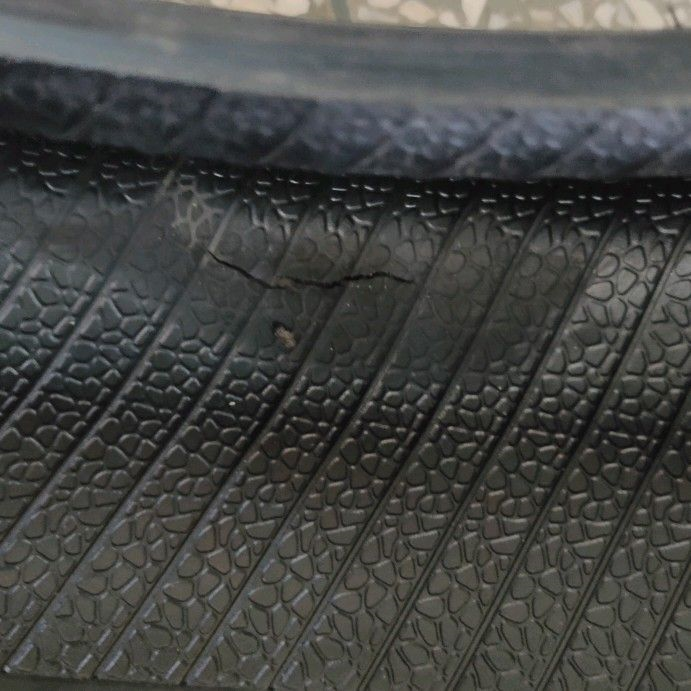CBU: (191, 238, 424, 299)
